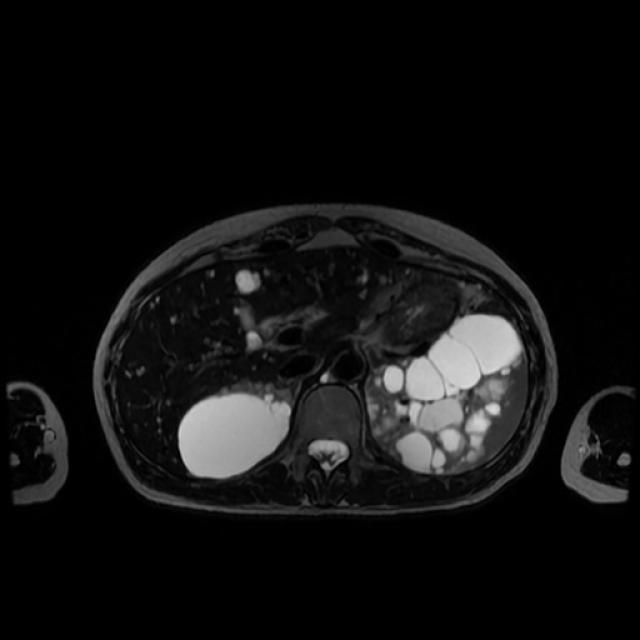sag: (181, 380, 294, 477)
sol: (367, 314, 521, 474)
